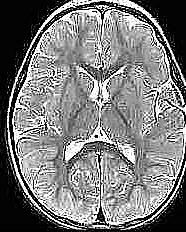Normal_Brain: (1, 1, 186, 232)
